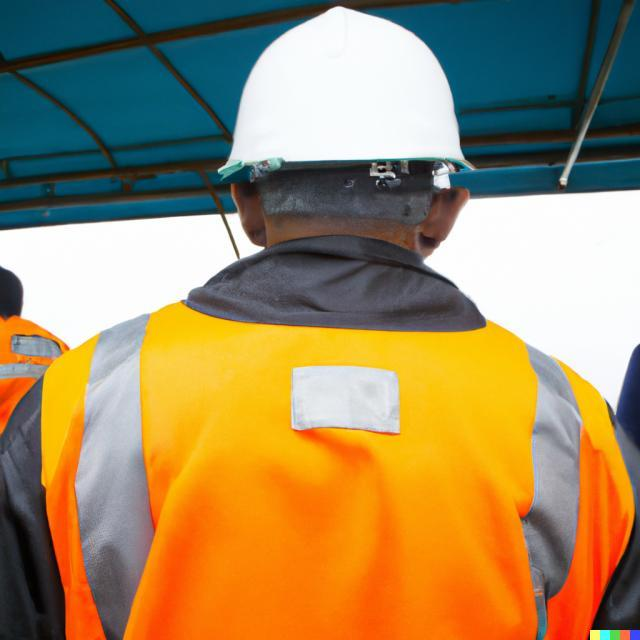reflective_jacket: (14, 254, 639, 637), (0, 289, 84, 639)
safety_helmet: (216, 8, 480, 178)
